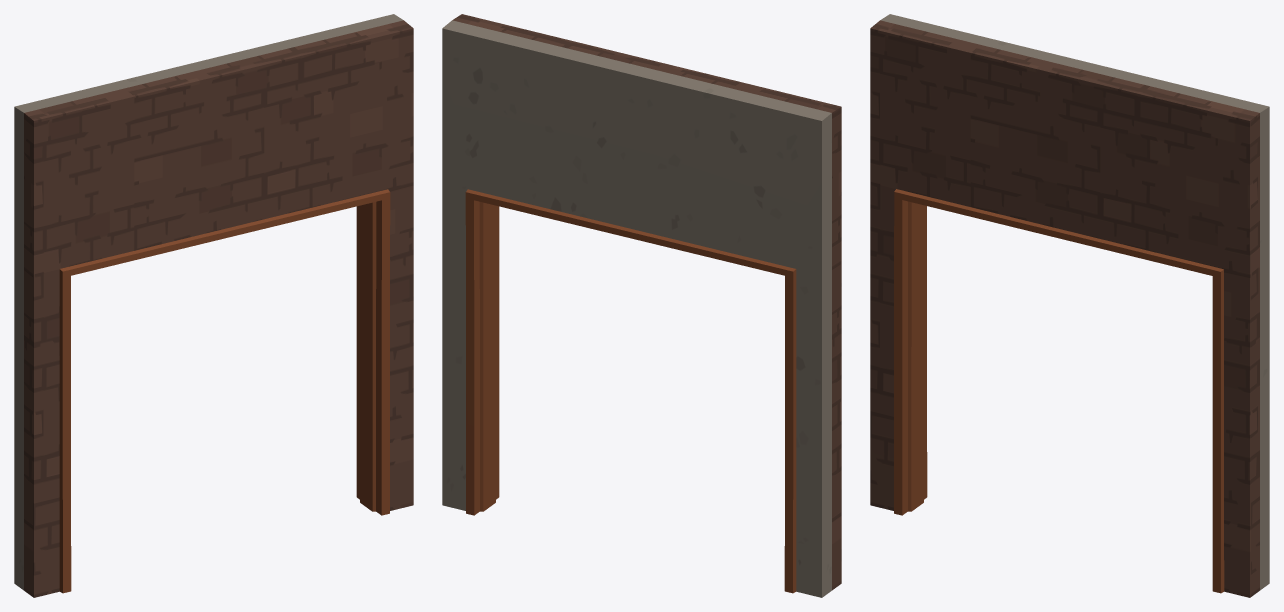
Rendered from SM_Bld_Base_Wall_Door_Double_01_720.obj.
3 views of the same model, side by side, from view 1: azimuth 30°, elevation 25°; view 2: azimuth 150°, elevation 25°; view 3: azimuth 330°, elevation 25° (orthographic).
Parts seen in each view (by area): view 1: SM_Bld_Base_Wall_Door_Double_01_0, SM_Bld_Base_Wall_Door_Double_01_1, SM_Bld_Base_Wall_Door_Double_01_2; view 2: SM_Bld_Base_Wall_Door_Double_01_2, SM_Bld_Base_Wall_Door_Double_01_1, SM_Bld_Base_Wall_Door_Double_01_0; view 3: SM_Bld_Base_Wall_Door_Double_01_0, SM_Bld_Base_Wall_Door_Double_01_1, SM_Bld_Base_Wall_Door_Double_01_2.
Part boxes in pixels (<box>): SM_Bld_Base_Wall_Door_Double_01_0: <box>24,20,413,597</box>; SM_Bld_Base_Wall_Door_Double_01_1: <box>59,189,390,593</box>; SM_Bld_Base_Wall_Door_Double_01_2: <box>14,14,403,590</box>; SM_Bld_Base_Wall_Door_Double_01_2: <box>442,20,831,597</box>; SM_Bld_Base_Wall_Door_Double_01_1: <box>465,189,796,593</box>; SM_Bld_Base_Wall_Door_Double_01_0: <box>452,14,841,590</box>; SM_Bld_Base_Wall_Door_Double_01_0: <box>870,20,1259,597</box>; SM_Bld_Base_Wall_Door_Double_01_1: <box>894,189,1224,593</box>; SM_Bld_Base_Wall_Door_Double_01_2: <box>880,14,1269,590</box>.
Size of the model in its own units: 2.5 by 3.01 by 0.288.
3 materials, 3 textured.
